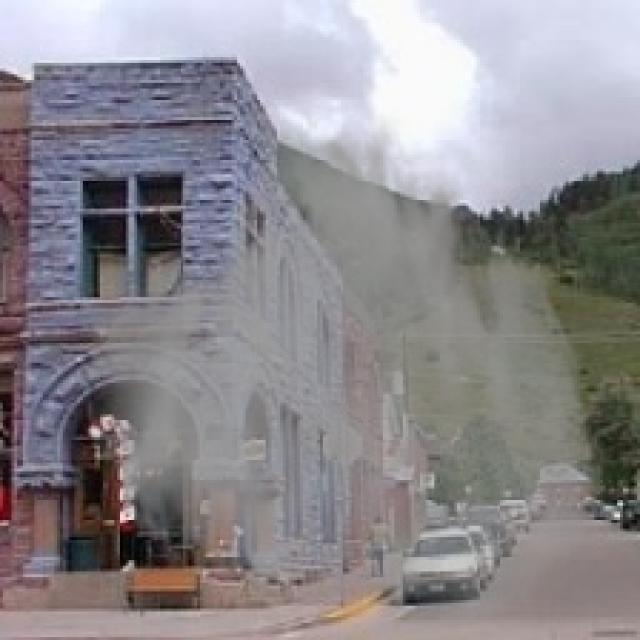smoke: (80, 100, 609, 634)
